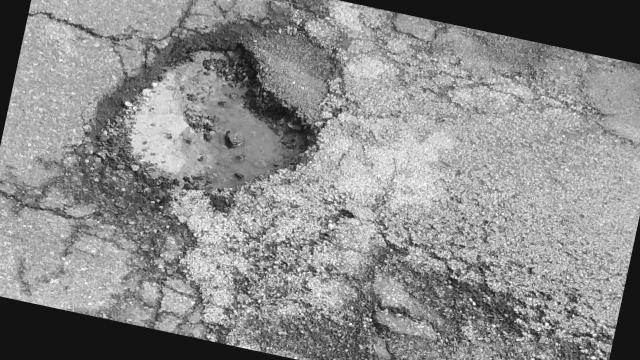Pothole: (70, 0, 370, 247), (330, 194, 632, 360)
